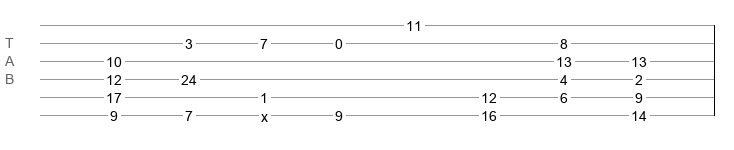0: (335, 36, 343, 46)
1: (260, 90, 268, 100)
10: (106, 54, 122, 64)
11: (406, 18, 422, 28)
12: (106, 72, 122, 82), (481, 90, 497, 100)
13: (556, 54, 572, 64), (631, 54, 647, 64)
14: (631, 108, 647, 118)
16: (481, 108, 497, 118)
17: (106, 90, 122, 100)
2: (635, 72, 643, 82)
24: (181, 72, 197, 82)
3: (185, 36, 193, 46)
4: (560, 72, 568, 82)
6: (560, 90, 568, 100)
7: (185, 108, 193, 118), (260, 36, 268, 46)
8: (560, 36, 568, 46)
9: (110, 108, 118, 118), (335, 108, 343, 118), (635, 90, 643, 100)
x: (261, 109, 268, 117)
